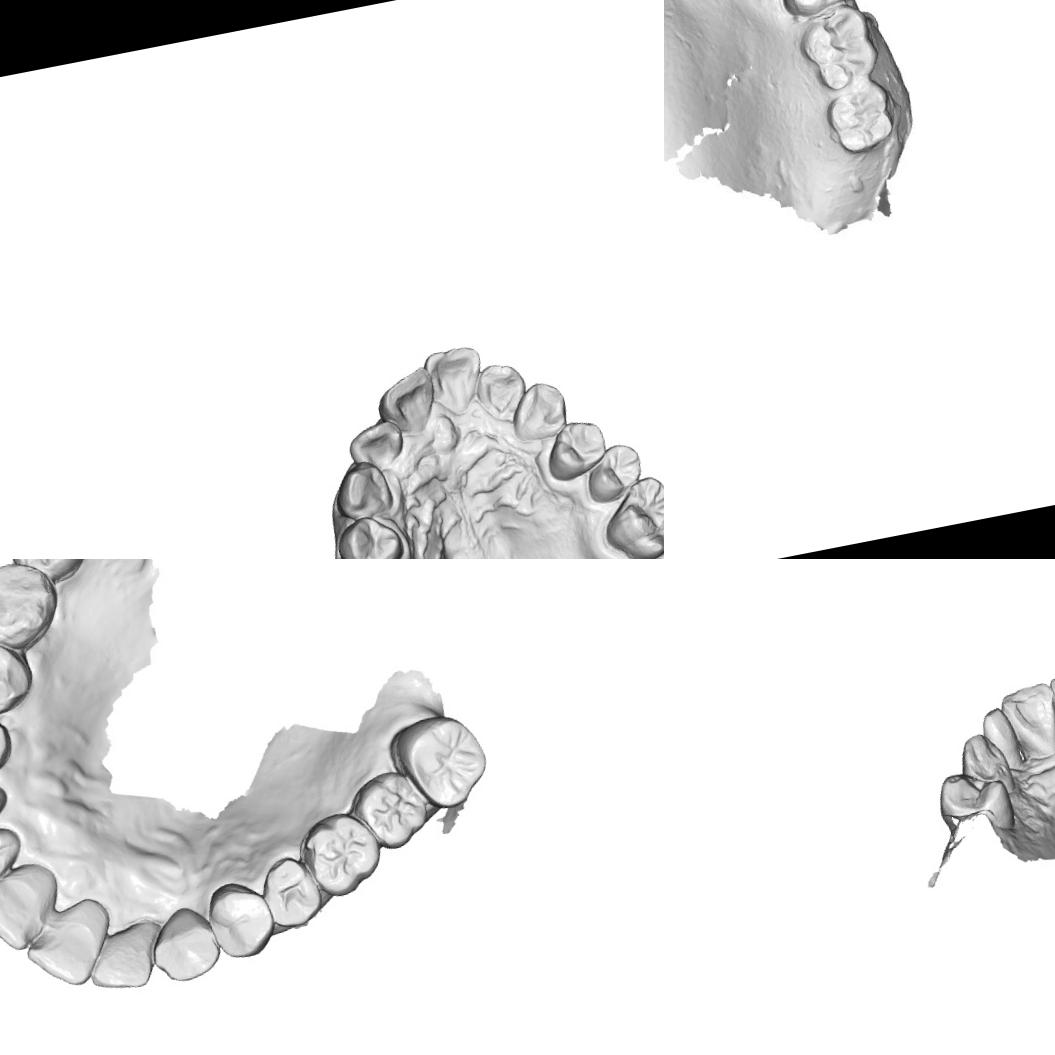canine: (142, 896, 226, 988), (504, 376, 575, 446), (328, 455, 395, 525), (954, 728, 1016, 802)
incisor: (15, 906, 105, 996), (81, 923, 165, 998), (370, 363, 444, 442), (419, 341, 491, 422), (995, 678, 1055, 765), (0, 869, 58, 958), (470, 354, 533, 428), (977, 704, 1024, 774), (344, 416, 406, 469), (0, 820, 30, 901)
molar: (384, 708, 495, 816), (297, 805, 388, 902), (348, 762, 438, 854), (0, 559, 67, 659), (593, 469, 664, 559), (803, 8, 879, 90), (824, 78, 897, 154), (0, 559, 92, 589)
premolar: (202, 874, 282, 964), (932, 762, 1018, 845), (255, 850, 327, 934), (539, 414, 613, 486), (578, 438, 648, 506), (330, 510, 407, 559), (0, 631, 39, 724), (784, 0, 851, 16)
